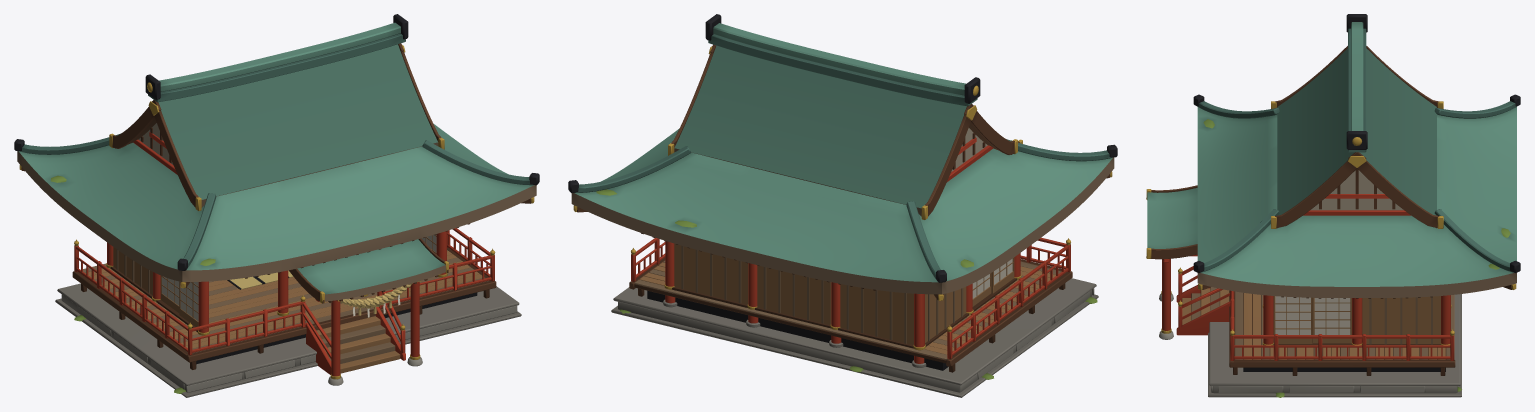
File: haiden.glb
The picture shows the model from 3 angles, left to right: view 1: azimuth 30°, elevation 25°; view 2: azimuth 150°, elevation 25°; view 3: azimuth 270°, elevation 25°; orthographic projection. The views are drawn at different scales.
Visible parts, largest first — view 1: haiden; view 2: haiden; view 3: haiden.
Part boxes in pixels (box(x1,y1,x2,y2)): haiden: box(14, 14, 539, 397); haiden: box(568, 14, 1117, 397); haiden: box(1146, 14, 1520, 397).
Size of what is drawn, in the model's own units: 13.65 by 9.15 by 12.66.
